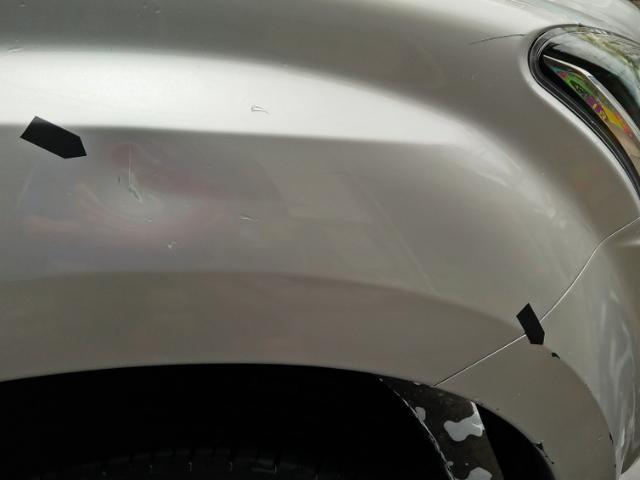Fender: (16, 97, 283, 273)
